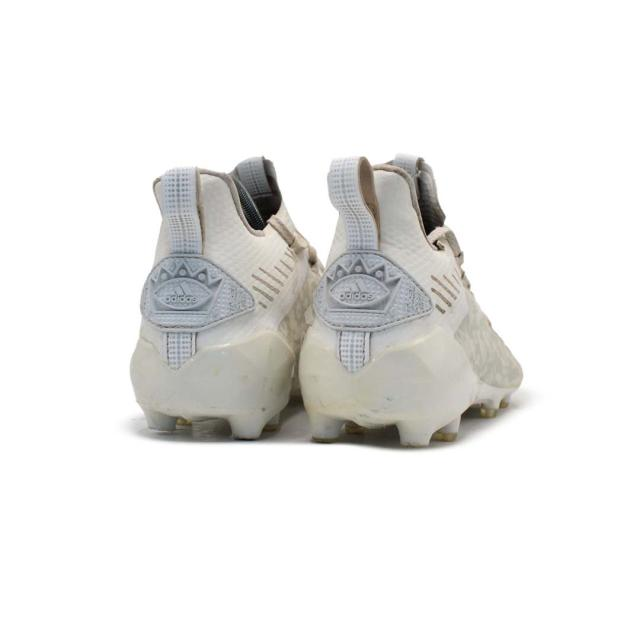heel: (139, 163, 294, 372), (307, 161, 454, 361)
midsole: (297, 333, 514, 448), (130, 334, 298, 436)
